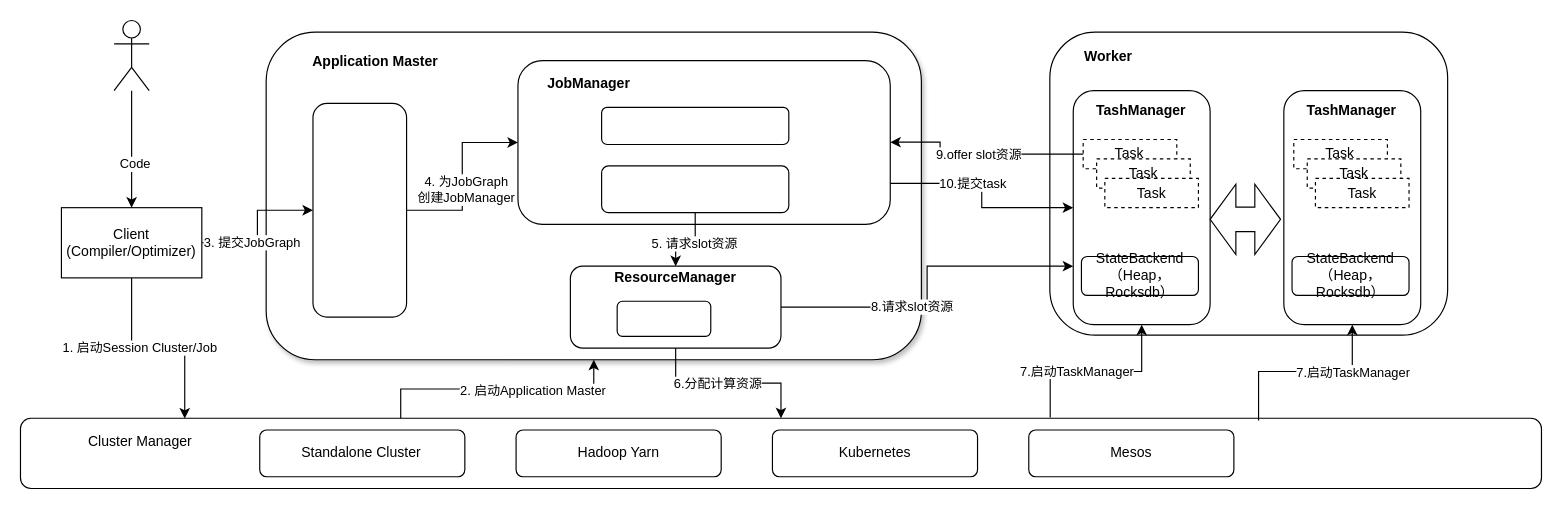
This 1562x509 diagram has some shape labels left out. The centre of each missing label's shape, as x and y in pixels:
Actor: pixel 131 55
Dispatcher: pixel 359 209
ExecutionGraph: pixel 694 189
JobGraph: pixel 694 125
Shuffle: pixel 1245 218
SlotManager: pixel 663 318
